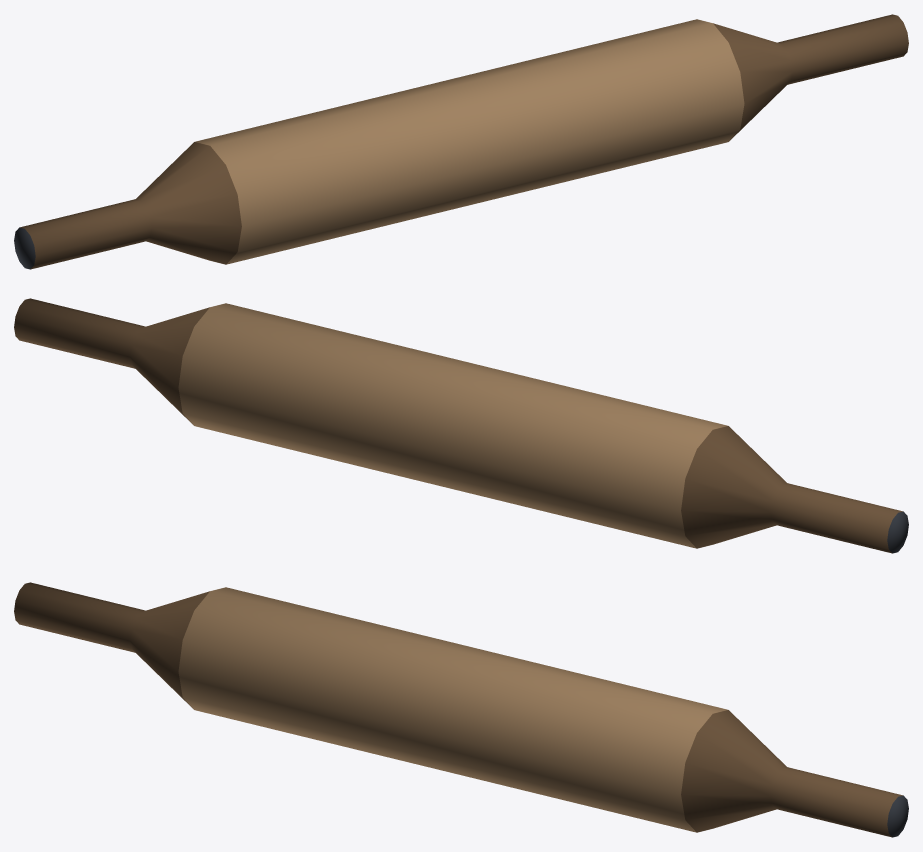
The model's file is rolling_pin_small.glb.
The picture shows the model from 3 angles, top to bottom: view 1: azimuth 30°, elevation 25°; view 2: azimuth 150°, elevation 25°; view 3: azimuth 330°, elevation 25°; orthographic projection.
Parts seen in each view (by area): view 1: rolling_pin_small; view 2: rolling_pin_small; view 3: rolling_pin_small.
Part boxes in pixels (x1,y1,x2,y2): rolling_pin_small: (14,14,908,269); rolling_pin_small: (14,298,908,553); rolling_pin_small: (14,582,908,837).
Bounding box in the file's own units: 0.28 × 0.035 × 0.035.
